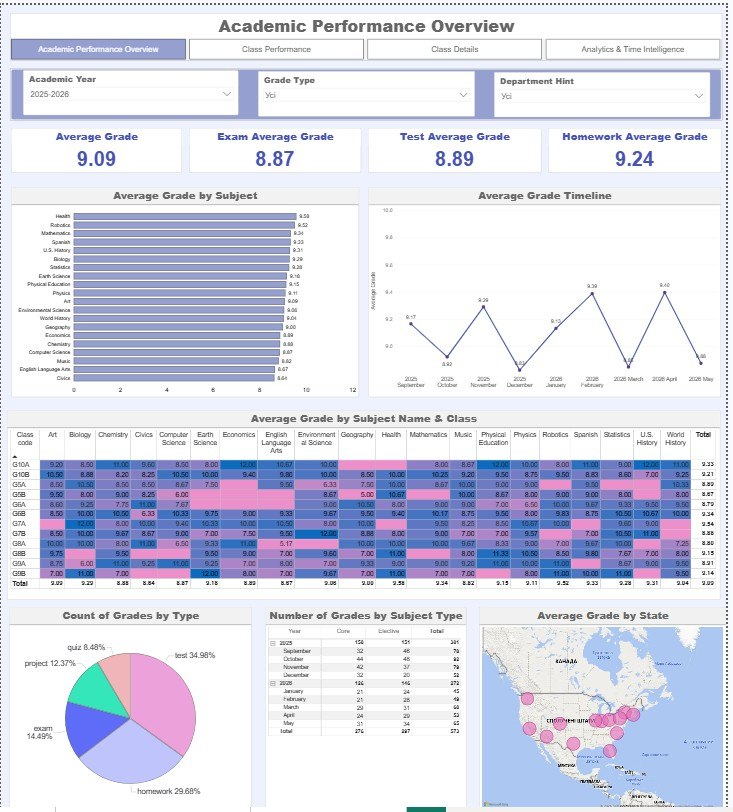

The dashboard page shown, as its layout file describes it:
{"tool":"powerbi","page":{"name":"Academic Performance Overview","canvas":[1910,2140],"ordinal":0},"visuals":[{"type":"card","title":"Homework Average Grade","fields":{"Values":["Avg(grades.grade_value)"]},"box":[1439.7,323.5,455.9,115],"z":0},{"type":"card","title":"Exam Average Grade","fields":{"Values":["Avg(grades.grade_value)"]},"box":[493.6,323.5,452.9,115],"z":1000},{"type":"card","title":"Test Average Grade","fields":{"Values":["Avg(grades.grade_value)"]},"box":[965.2,323.5,455.9,115],"z":2000},{"type":"card","title":"Average Grade","fields":{"Values":["Avg(grades.grade_value)"]},"box":[25,323.5,450,115],"z":3000},{"type":"clusteredBarChart","title":"Average Grade by Subject","fields":{"Category":["subjects.subject_name"],"Y":["Avg(grades.grade_value)"]},"box":[25.5,478.4,915.7,552.9],"z":4000},{"type":"pivotTable","title":"Average Grade by Subject Name & Class","fields":{"Columns":["subjects.subject_name"],"Values":["Avg(grades.grade_value)"],"Rows":["classes.class_code"]},"box":[16.7,1065,1876.7,500],"z":5000},{"type":"lineChart","title":"Average Grade Timeline","fields":{"Y":["Avg(grades.grade_value)"],"Category":["Calendar.Year Ієрархія.Year","Calendar.Year Ієрархія.Month_Name"]},"box":[966.7,478.4,929.4,552.9],"z":6000},{"type":"pieChart","title":"Count of Grades by Type","fields":{"Category":["grades.grade_type"],"Y":["CountNonNull(grades.grade_value)"]},"box":[21.6,1584.3,639.2,541.2],"z":7000},{"type":"pivotTable","title":"Number of Grades by Subject Type","fields":{"Rows":["Calendar.Year Ієрархія.Year","Calendar.Year Ієрархія.Month_Name"],"Values":["CountNonNull(grades.grade_value)"],"Columns":["subjects.subject_type"]},"box":[694.8,1585,530,540],"z":8000},{"type":"map","title":"Average Grade by State","fields":{"Category":["students.state"],"Size":["Avg(grades.grade_value)"]},"box":[1258.8,1584.3,651,541.2],"z":9000},{"type":"pageNavigator","title":"Academic Performance Overview ","box":[23.4,20,1874,125],"z":10000},{"type":"shape","box":[23.2,164.7,1874.5,139.2],"z":11000},{"type":"slicer","fields":{"Values":["grades.grade_type"]},"box":[676.5,174.5,570.6,119.6],"z":12000},{"type":"slicer","fields":{"Values":["subjects.department_hint"]},"box":[1297.2,175,569.4,119.4],"z":13000},{"type":"slicer","fields":{"Values":["periods.academic_year"]},"box":[58.3,172.2,566.7,119.4],"z":14000}]}

Visuals, with their boxes in screenshot pixels (x1, y1, x2, y2), scaled from the page's 1910x2140 canvas onto the 733x812 screenshot:
"Homework Average Grade" card: locate(553, 123, 727, 166)
"Exam Average Grade" card: locate(189, 123, 363, 166)
"Test Average Grade" card: locate(370, 123, 545, 166)
"Average Grade" card: locate(10, 123, 182, 166)
"Average Grade by Subject" clusteredBarChart: locate(10, 182, 361, 391)
"Average Grade by Subject Name & Class" pivotTable: locate(6, 404, 727, 594)
"Average Grade Timeline" lineChart: locate(371, 182, 728, 391)
"Count of Grades by Type" pieChart: locate(8, 601, 254, 806)
"Number of Grades by Subject Type" pivotTable: locate(267, 601, 470, 806)
"Average Grade by State" map: locate(483, 601, 732, 806)
"Academic Performance Overview " pageNavigator: locate(9, 8, 728, 55)
shape: locate(9, 62, 728, 115)
slicer - grades.grade_type: locate(260, 66, 479, 112)
slicer - subjects.department_hint: locate(498, 66, 716, 112)
slicer - periods.academic_year: locate(22, 65, 240, 111)
